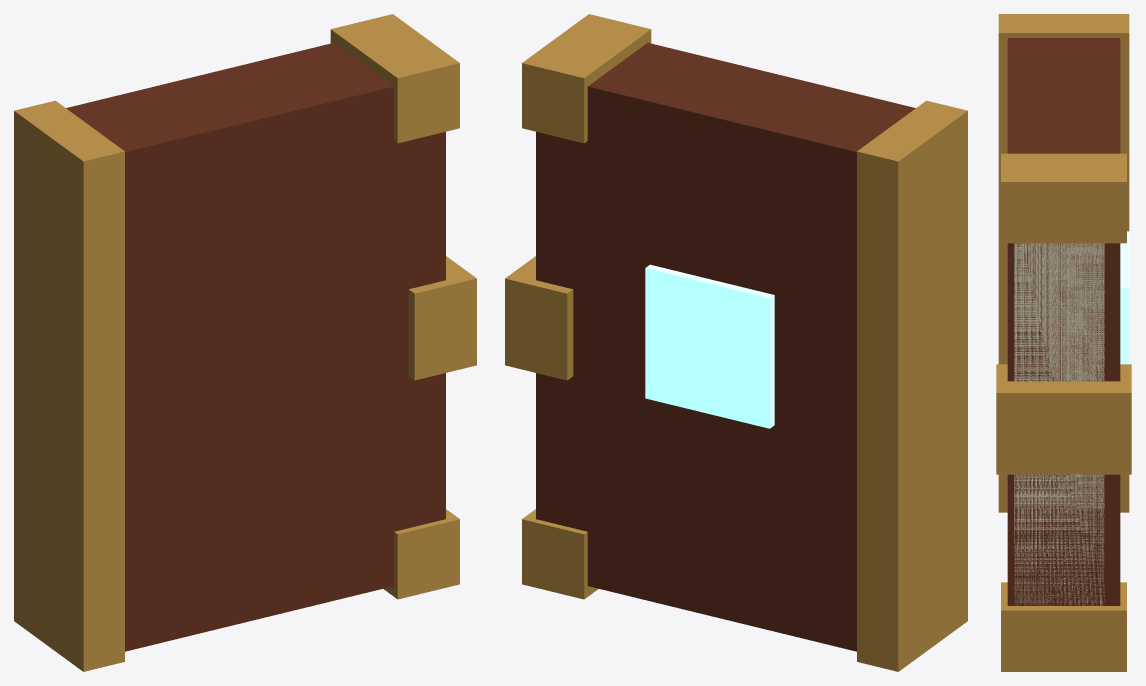
The model's file is tome.glb.
3 views of the same model, side by side, from view 1: azimuth 30°, elevation 25°; view 2: azimuth 150°, elevation 25°; view 3: azimuth 270°, elevation 25° (orthographic). The views are drawn at different scales.
Visible parts, largest first — view 1: Tome_Tome_cover, Tome_Brass; view 2: Tome_Tome_cover, Tome_Brass, Tome_Accent; view 3: Tome_Brass, Tome_Tome_cover, Tome_Paper, Tome_Accent.
Boxes of the visible parts, x1,y1,x2,y2 form: Tome_Tome_cover: (66,43,445,651); Tome_Brass: (14,14,476,671); Tome_Tome_cover: (536,43,915,651); Tome_Brass: (505,14,967,671); Tome_Accent: (645,264,774,428); Tome_Brass: (996,14,1131,671); Tome_Tome_cover: (1007,38,1120,605); Tome_Paper: (1014,243,1104,605); Tome_Accent: (1120,231,1129,364).
Size of the model in its own units: 0.189 by 0.24 by 0.06.
